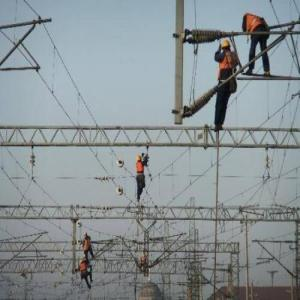yellow: (221, 40, 233, 53), (137, 155, 143, 164)
